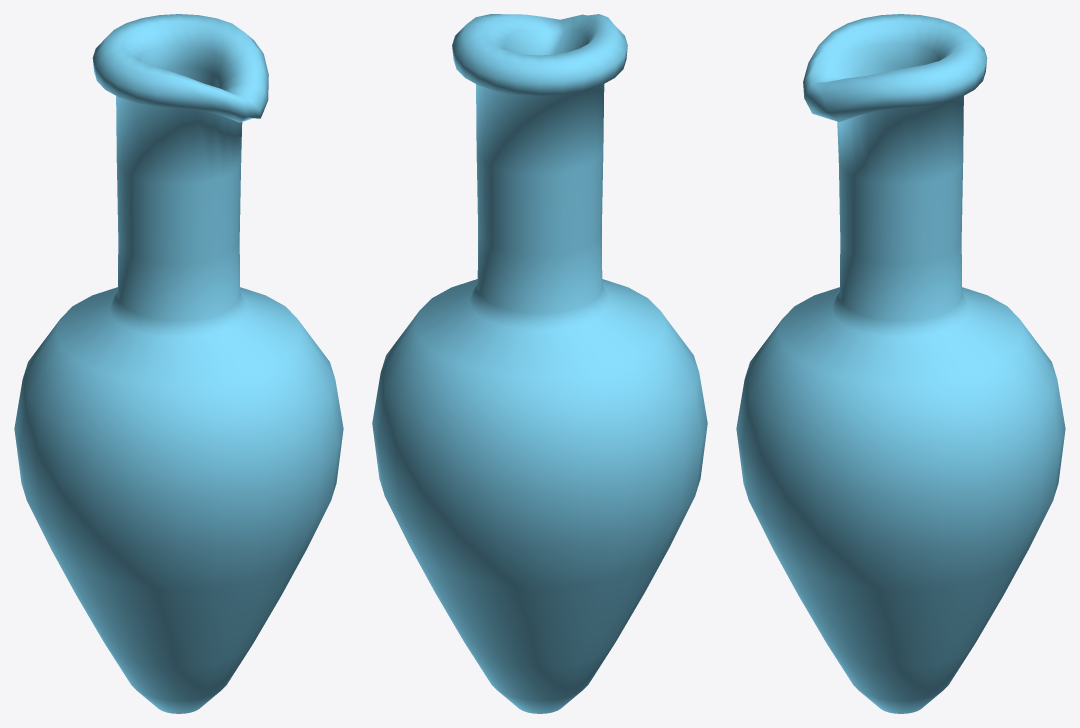
The model's file is Flask, Pear Shaped, Long Neck, Spout.fbx.
3 views of the same model, side by side, from view 1: azimuth 30°, elevation 25°; view 2: azimuth 150°, elevation 25°; view 3: azimuth 270°, elevation 25° (orthographic).
Visible parts, largest first — view 1: Flask, Pear Shaped, Long Neck, Spout; view 2: Flask, Pear Shaped, Long Neck, Spout; view 3: Flask, Pear Shaped, Long Neck, Spout.
Boxes of the visible parts, <box> form: Flask, Pear Shaped, Long Neck, Spout: <box>14,14,343,713</box>; Flask, Pear Shaped, Long Neck, Spout: <box>372,14,707,713</box>; Flask, Pear Shaped, Long Neck, Spout: <box>736,14,1065,713</box>.
Bounding box in the file's own units: 0.4179 × 0.9327 × 0.4179.
